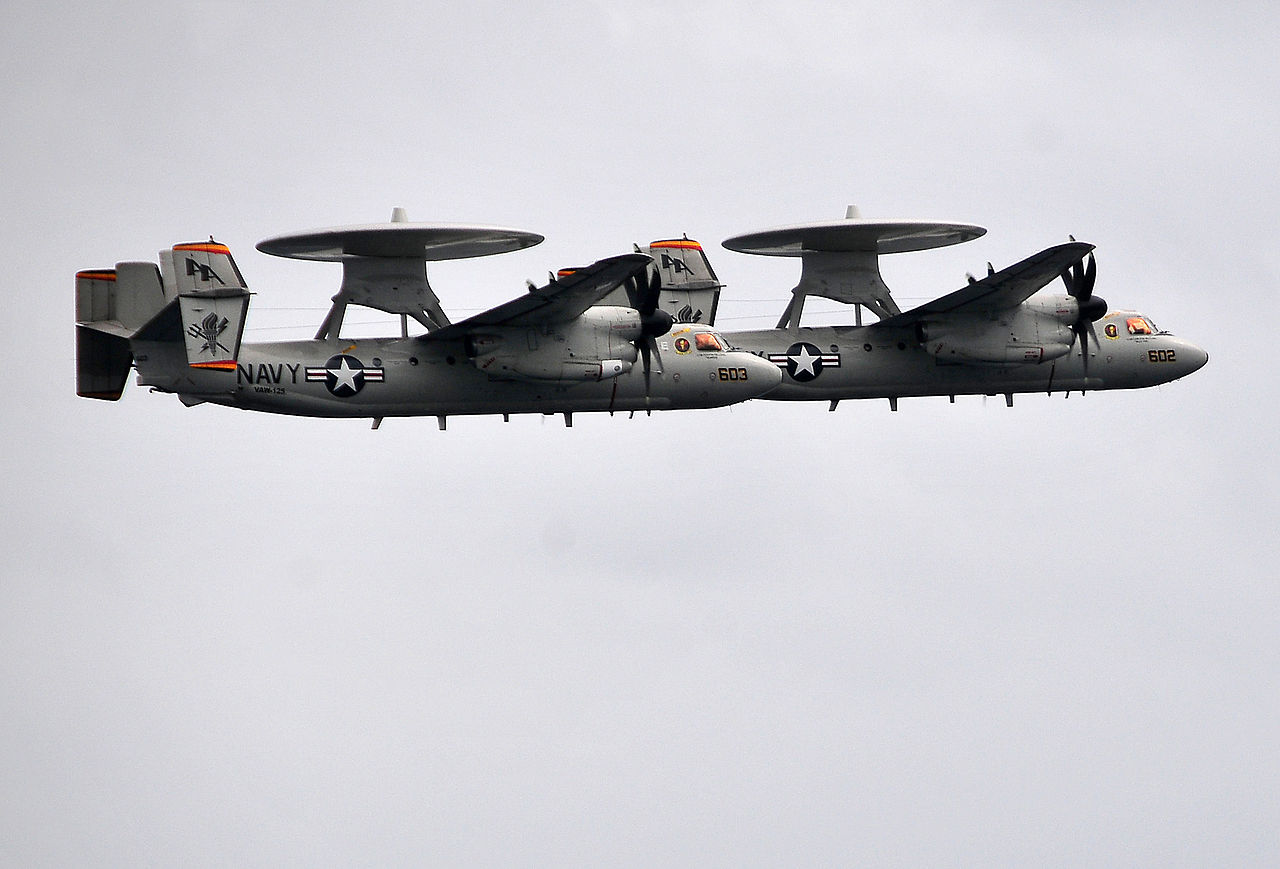E2: (75, 208, 783, 430), (556, 205, 1210, 411)
